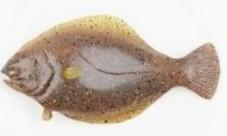fish: (0, 15, 221, 124)
